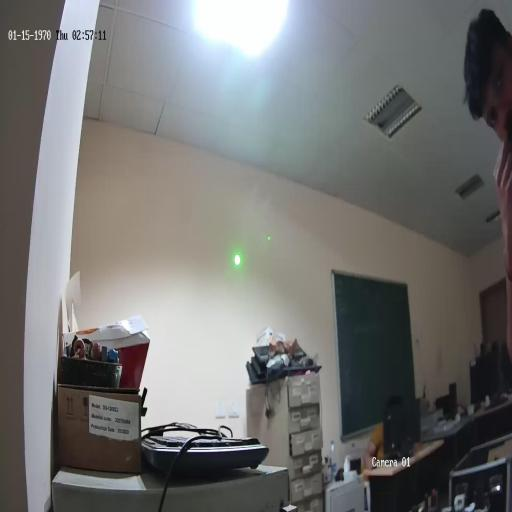laser: (232, 250, 242, 270)
